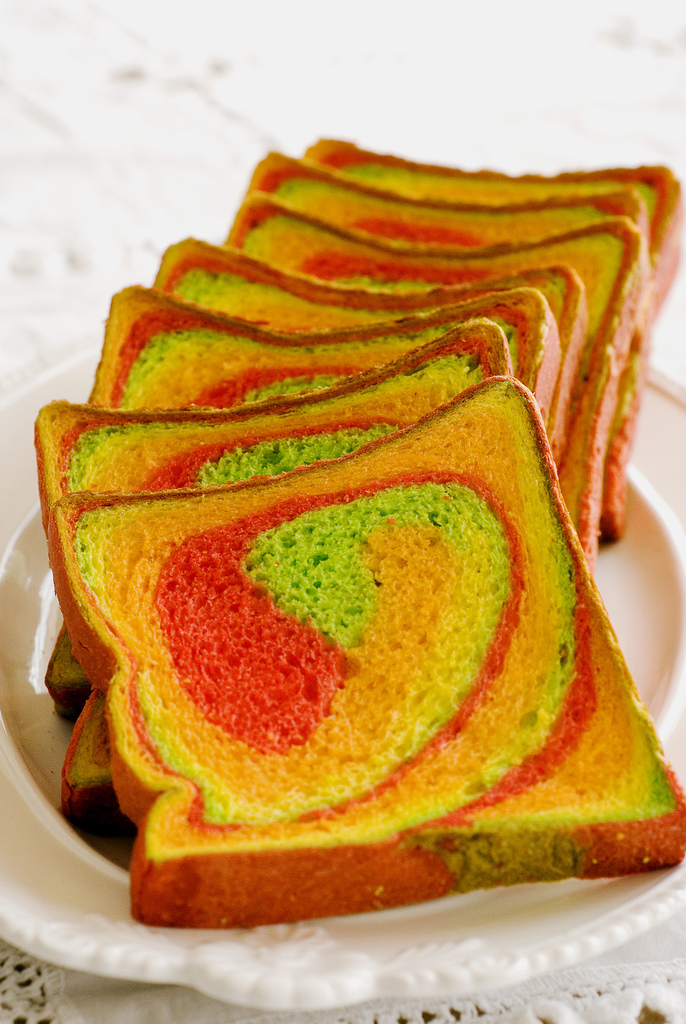slice of bread: (29, 369, 686, 946), (29, 345, 577, 543)
